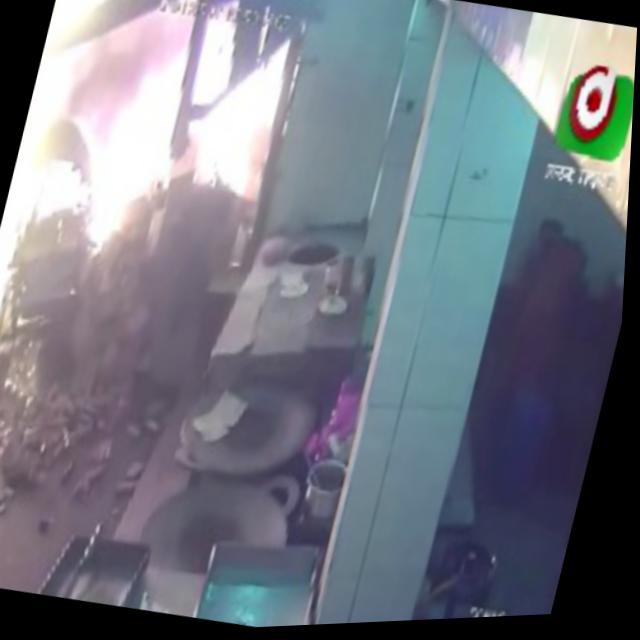fire: (18, 0, 303, 204)
